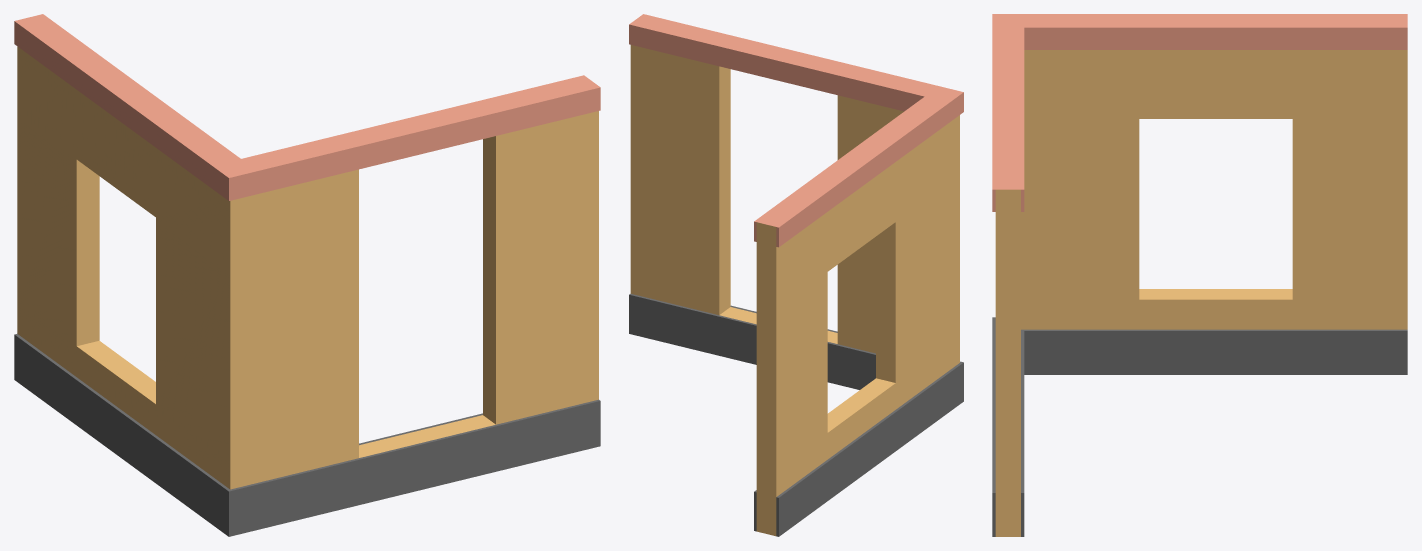
Rendered from Wall06-04.fbx.
3 renders of one model, left to right at view 1: azimuth 30°, elevation 25°; view 2: azimuth 150°, elevation 25°; view 3: azimuth 270°, elevation 25°, orthographic. The views are drawn at different scales.
Visible parts, largest first — view 1: Wall06-04; view 2: Wall06-04; view 3: Wall06-04.
Part boxes in pixels (<box>): Wall06-04: <box>14,14,600,536</box>; Wall06-04: <box>629,14,963,536</box>; Wall06-04: <box>992,14,1407,536</box>.
Bounding box in the file's own units: 3.25 × 3.25 × 3.
